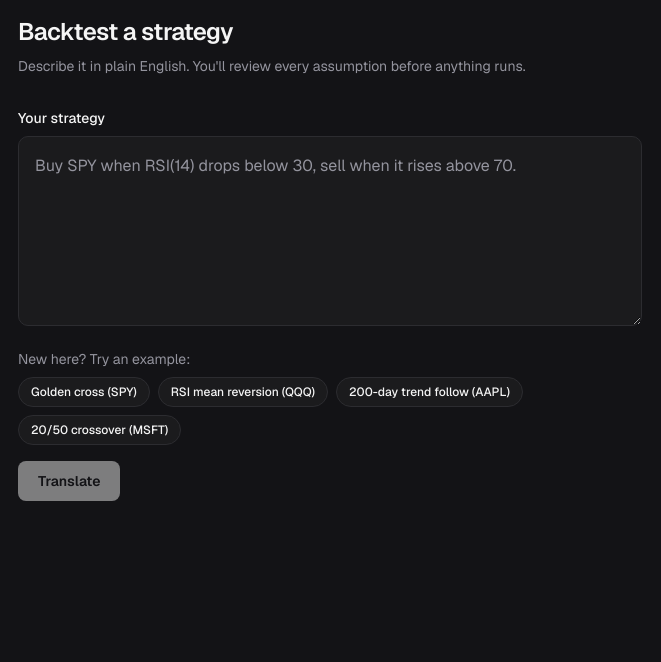
Test: INTEGRATION: error states -- each of the three calls surfaces an error and does not advance the machine › a failing /translate surfaces an error and never reaches the gate
The width and height of the screenshot is (661, 662).
Type "buy SPY when RSI < 30, sell when RSI > 70" into the text box with test id "nl-input".
click(330, 231); type("buy SPY when RSI < 30, sell when RSI > 70")  # box top-left (18, 136), bottom-right (642, 326)
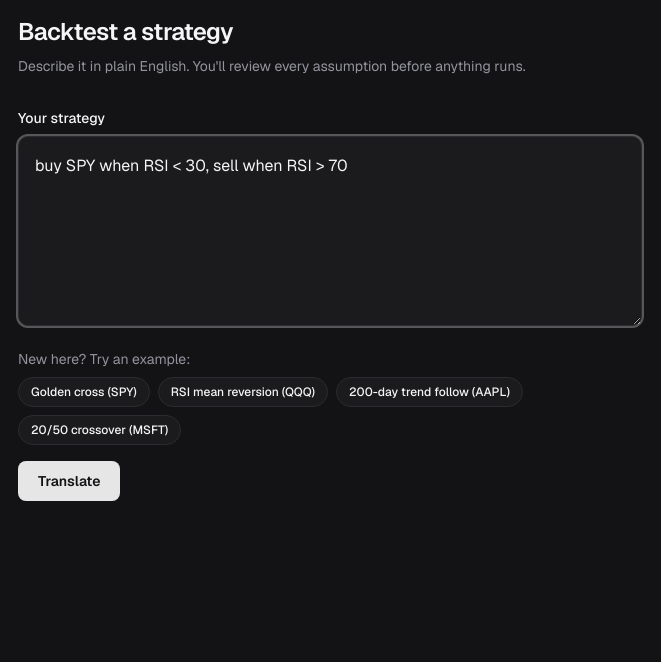
Click the button with test id "translate-submit".
click(69, 481)  # box top-left (18, 461), bottom-right (120, 501)
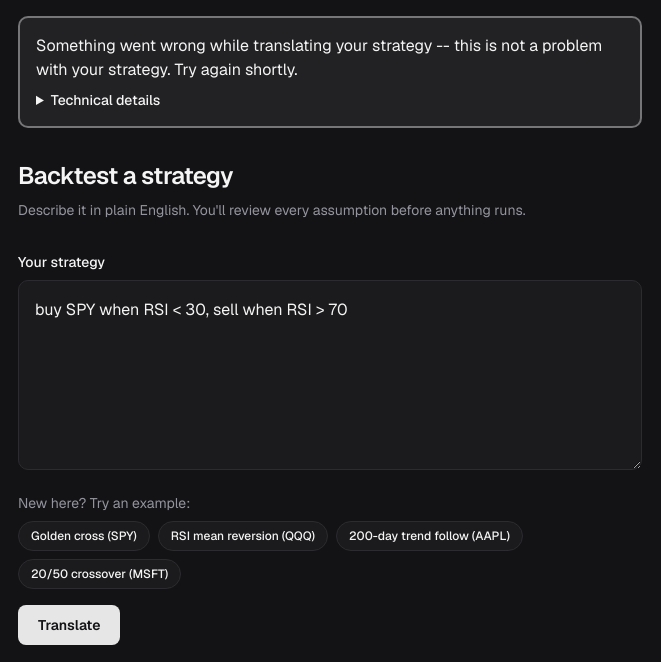
Check: the message with test id "translate-error" is shown, box top-left (18, 16), bottom-right (642, 128)
